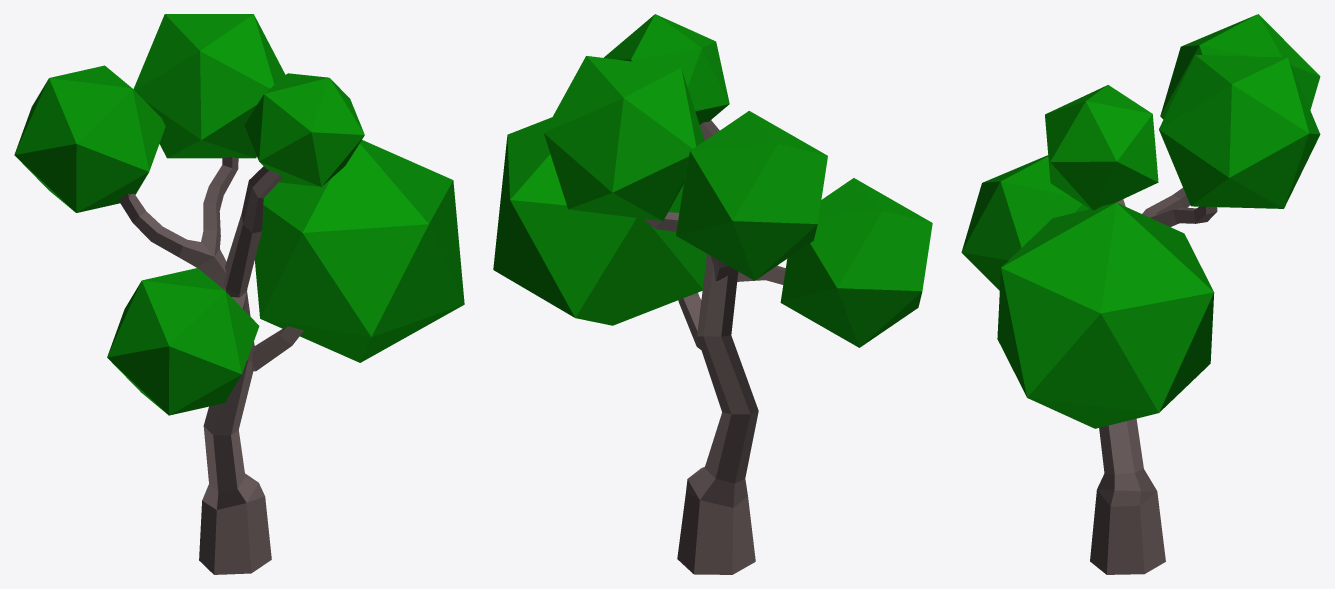
File: Wood_V4.fbx
3 renders of one model, left to right at view 1: azimuth 30°, elevation 25°; view 2: azimuth 150°, elevation 25°; view 3: azimuth 270°, elevation 25°, orthographic. The views are drawn at different scales.
Visible parts, largest first — view 1: Wood_V4; view 2: Wood_V4; view 3: Wood_V4.
Boxes of the visible parts, x1=… form: Wood_V4: x1=14, y1=14, x2=464, y2=574; Wood_V4: x1=493, y1=14, x2=932, y2=574; Wood_V4: x1=961, y1=14, x2=1320, y2=574.
Size of the model in its own units: 4.96 by 6.36 by 4.03.
